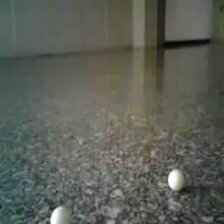w: (167, 169, 185, 191), (49, 206, 70, 224)
